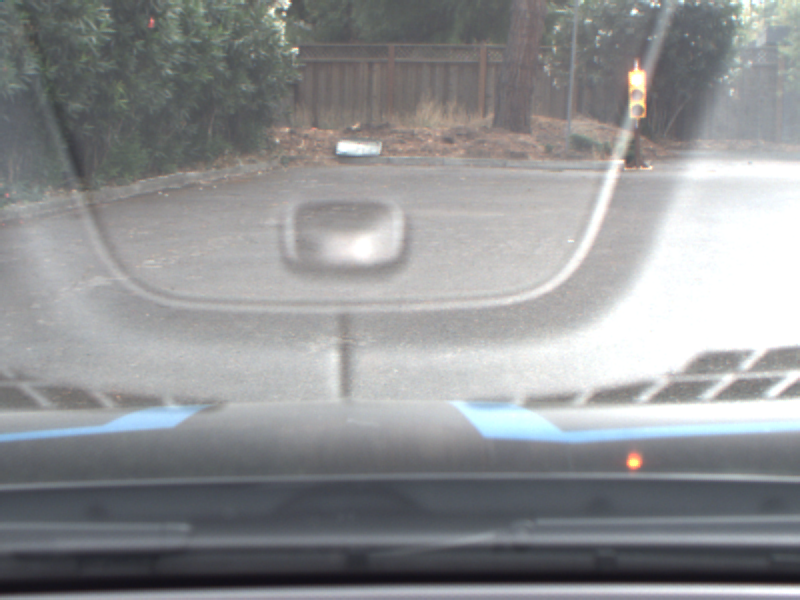red: (627, 69, 648, 120)
